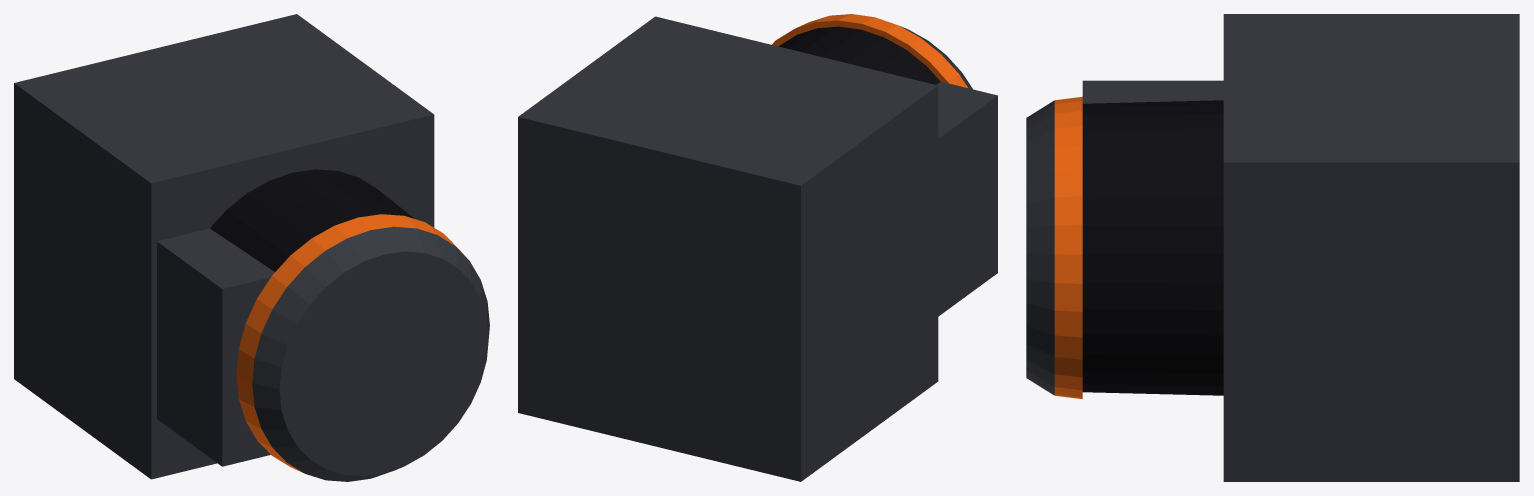
File: hokuyo_urg04lx.obj
3 views of the same model, side by side, from view 1: azimuth 30°, elevation 25°; view 2: azimuth 150°, elevation 25°; view 3: azimuth 270°, elevation 25° (orthographic). The views are drawn at different scales.
Parts seen in each view (by area): view 1: hokuyo_body_grey_group, hokuyo_optical_window_group, hokuyo_orange_group; view 2: hokuyo_body_grey_group, hokuyo_optical_window_group, hokuyo_orange_group; view 3: hokuyo_body_grey_group, hokuyo_optical_window_group, hokuyo_orange_group.
Boxes of the visible parts, x1,y1,x2,y2 form: hokuyo_body_grey_group: (14, 14, 489, 481); hokuyo_optical_window_group: (210, 169, 414, 271); hokuyo_orange_group: (236, 214, 466, 472); hokuyo_body_grey_group: (518, 16, 997, 481); hokuyo_optical_window_group: (778, 26, 940, 84); hokuyo_orange_group: (772, 14, 967, 87); hokuyo_body_grey_group: (1026, 14, 1519, 481); hokuyo_optical_window_group: (1082, 100, 1223, 395); hokuyo_orange_group: (1054, 96, 1082, 399).
Size of the model in its own units: 0.05 by 0.05 by 0.07.
